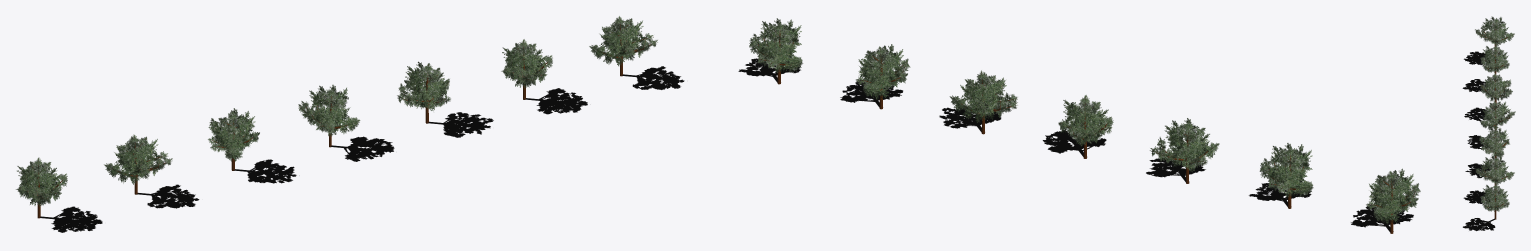
The model's file is treelineEW.glb.
3 renders of one model, left to right at view 1: azimuth 30°, elevation 25°; view 2: azimuth 150°, elevation 25°; view 3: azimuth 270°, elevation 25°, orthographic. The views are drawn at different scales.
Visible parts, largest first — view 1: treelineEW; view 2: treelineEW; view 3: treelineEW.
Boxes of the visible parts, x1,y1,x2,y2 form: treelineEW: (16,16,684,232); treelineEW: (738,18,1420,233); treelineEW: (1462,16,1515,230).
Size of the model in its own units: 173 by 15.19 by 23.78.
Materials: 7 (6 with a texture image).
